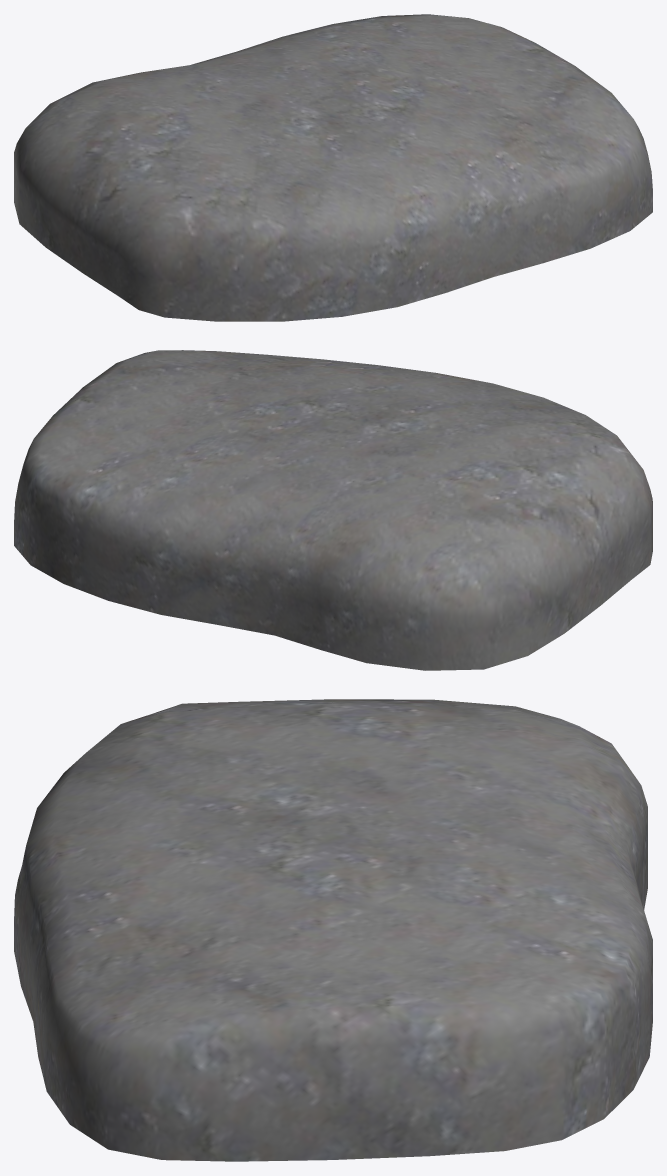
File: SM_Sun_Kak_stone_B.fbx
3 views of the same model, one above another, from view 1: azimuth 30°, elevation 25°; view 2: azimuth 150°, elevation 25°; view 3: azimuth 270°, elevation 25° (orthographic). The views are drawn at different scales.
Visible parts, largest first — view 1: SM_Sun_Kak_stone_B; view 2: SM_Sun_Kak_stone_B; view 3: SM_Sun_Kak_stone_B.
Part boxes in pixels (<box>): SM_Sun_Kak_stone_B: <box>14,14,652,321</box>; SM_Sun_Kak_stone_B: <box>14,350,652,670</box>; SM_Sun_Kak_stone_B: <box>14,699,652,1161</box>.
Bounding box in the file's own units: 104 × 21.87 × 80.1.
